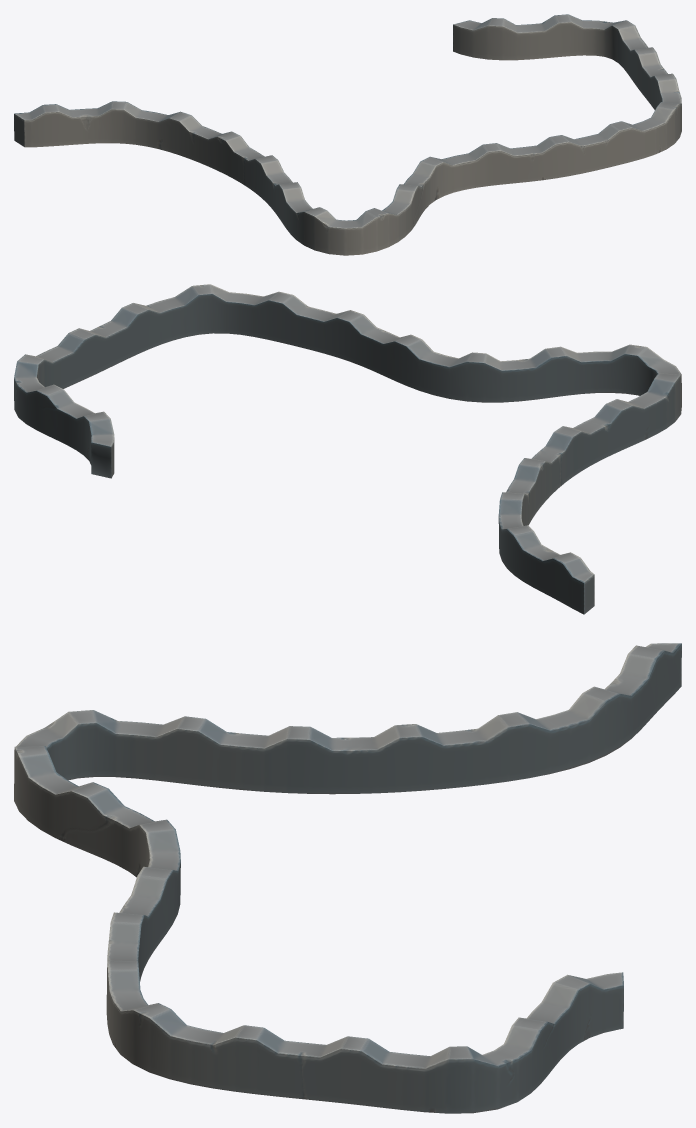
Rendered from Zone1_Path_Wall_Textured.fbx.
3 views of the same model, one above another, from view 1: azimuth 30°, elevation 25°; view 2: azimuth 150°, elevation 25°; view 3: azimuth 270°, elevation 25° (orthographic). The views are drawn at different scales.
Parts seen in each view (by area): view 1: Zone1_Small_Wall_LOW; view 2: Zone1_Small_Wall_LOW; view 3: Zone1_Small_Wall_LOW.
Boxes of the visible parts, x1,y1,x2,y2 form: Zone1_Small_Wall_LOW: (14,14,681,255); Zone1_Small_Wall_LOW: (14,284,681,614); Zone1_Small_Wall_LOW: (14,643,681,1113).
Size of the model in its own units: 2554 by 169 by 1682.
Materials: 1 (1 with a texture image).
